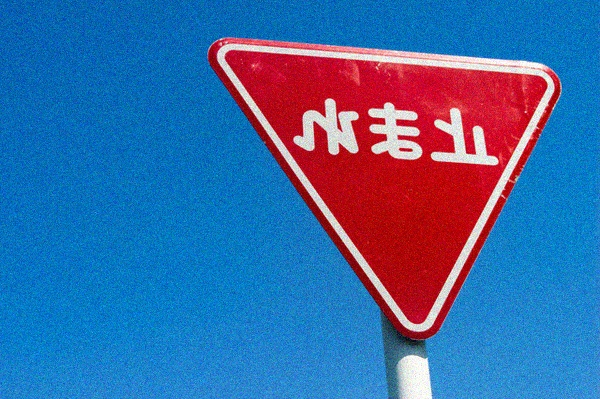Regulatory_sign_triangle: (195, 23, 570, 347)
